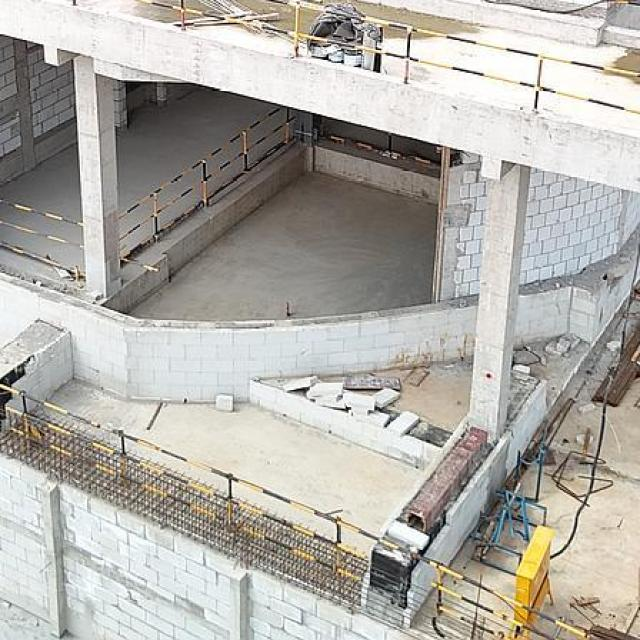edge_guardrail: (0, 381, 596, 640), (137, 0, 640, 117), (118, 105, 296, 274), (0, 198, 86, 278), (322, 130, 442, 170)
